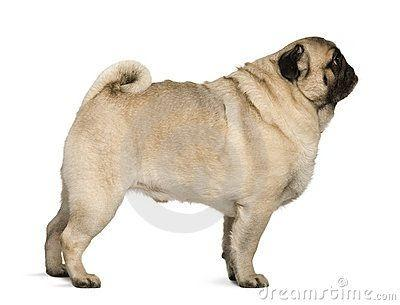adult_dog: (43, 36, 361, 292)
